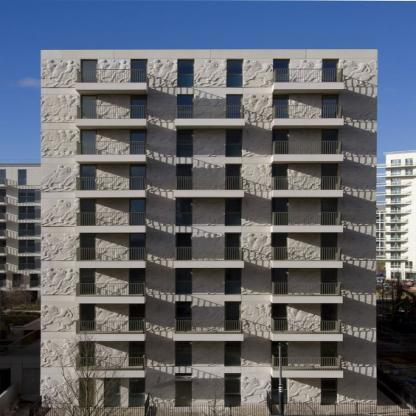Balcony: (275, 68, 342, 83), (175, 320, 242, 335), (77, 69, 147, 83), (77, 141, 147, 155), (76, 177, 146, 191), (76, 212, 146, 226), (76, 248, 146, 262), (76, 282, 146, 296), (76, 321, 146, 335), (76, 357, 146, 371), (77, 105, 147, 119), (272, 212, 342, 226), (274, 357, 342, 371), (274, 321, 342, 335), (274, 176, 342, 190), (175, 248, 242, 262), (178, 105, 243, 119), (274, 283, 342, 296), (274, 248, 342, 261), (274, 142, 342, 155), (275, 106, 343, 119), (175, 177, 242, 190)
Building Outline: (40, 50, 376, 408)
Deco: (40, 266, 80, 296), (40, 59, 81, 88), (40, 301, 79, 331), (40, 337, 79, 367), (40, 95, 81, 123), (337, 374, 376, 403), (40, 374, 79, 403), (41, 129, 81, 157), (41, 164, 81, 192), (41, 198, 81, 226), (339, 266, 376, 296), (339, 301, 376, 331), (339, 337, 376, 367), (40, 233, 79, 261), (339, 59, 376, 88), (338, 129, 376, 157), (338, 164, 376, 192), (338, 198, 376, 226), (338, 233, 376, 261), (339, 95, 376, 123)
Door: (129, 304, 145, 335), (129, 341, 145, 371), (225, 301, 241, 330), (129, 233, 145, 261), (129, 268, 145, 296), (225, 233, 241, 261), (322, 268, 339, 294), (322, 304, 339, 330), (130, 199, 146, 226), (322, 164, 338, 191), (322, 199, 338, 226), (130, 164, 146, 190), (225, 164, 241, 190), (322, 234, 338, 260), (321, 341, 337, 366), (131, 130, 147, 155), (227, 94, 243, 119), (322, 130, 338, 155), (131, 95, 147, 119), (131, 59, 147, 83), (323, 59, 339, 83), (323, 94, 339, 118)
Facade: (40, 50, 376, 408)
Floor: (40, 301, 376, 335), (40, 124, 376, 157), (40, 339, 376, 371), (40, 195, 376, 226), (40, 266, 376, 296), (40, 231, 376, 261), (40, 162, 376, 190), (40, 92, 376, 119)
Floor Slab: (40, 88, 376, 93), (40, 119, 376, 124), (40, 157, 376, 162), (40, 191, 376, 196), (40, 226, 376, 231), (40, 261, 376, 266), (40, 296, 376, 301), (40, 335, 376, 340), (40, 371, 376, 376)
Ground Floor: (40, 376, 376, 408)
Top Floor: (40, 50, 376, 88)
Window: (225, 373, 241, 408), (175, 373, 191, 408), (79, 304, 96, 335), (79, 341, 96, 371), (79, 378, 95, 408), (129, 378, 145, 408), (104, 378, 120, 408), (79, 233, 96, 261), (228, 59, 244, 88), (176, 301, 192, 330), (80, 268, 96, 296), (178, 59, 194, 87), (176, 233, 192, 261), (226, 129, 242, 157), (177, 129, 193, 157), (321, 377, 337, 405), (272, 377, 288, 405), (81, 199, 97, 226), (225, 268, 241, 295), (176, 268, 192, 295), (225, 199, 241, 226), (176, 199, 192, 226), (273, 164, 289, 191), (273, 199, 289, 226), (273, 233, 289, 260), (273, 268, 289, 295), (81, 129, 97, 155), (81, 164, 97, 190), (176, 164, 192, 190), (273, 304, 289, 330), (273, 341, 289, 366), (178, 94, 194, 119), (273, 130, 289, 155), (225, 341, 241, 366), (175, 341, 191, 366), (81, 95, 97, 119), (81, 59, 97, 83), (273, 59, 289, 83), (273, 94, 289, 118)
